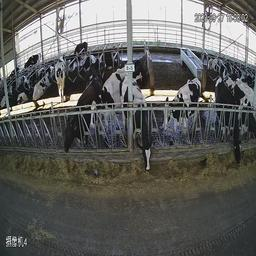cow: (118, 74, 154, 172), (63, 77, 103, 159), (84, 66, 128, 138), (158, 80, 200, 142), (214, 75, 242, 165), (225, 76, 255, 157), (85, 58, 103, 94), (33, 72, 53, 101), (55, 57, 67, 103), (97, 48, 121, 71), (69, 41, 86, 72), (17, 78, 32, 106), (23, 54, 43, 73)
